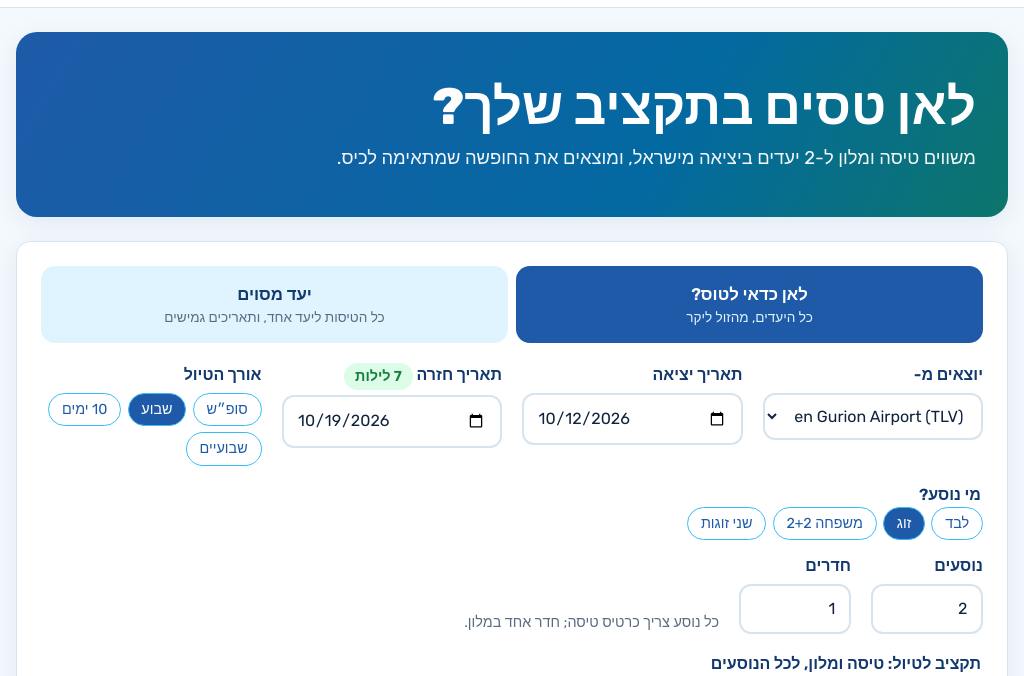
Scenario: nearest dates and old prices are tagged
This screenshot has width=1024, height=676.
Type "2026-11-07" into the date field labelled "תאריך יציאה" at {"x": 632, "y": 419}, box [522,393,742,445]
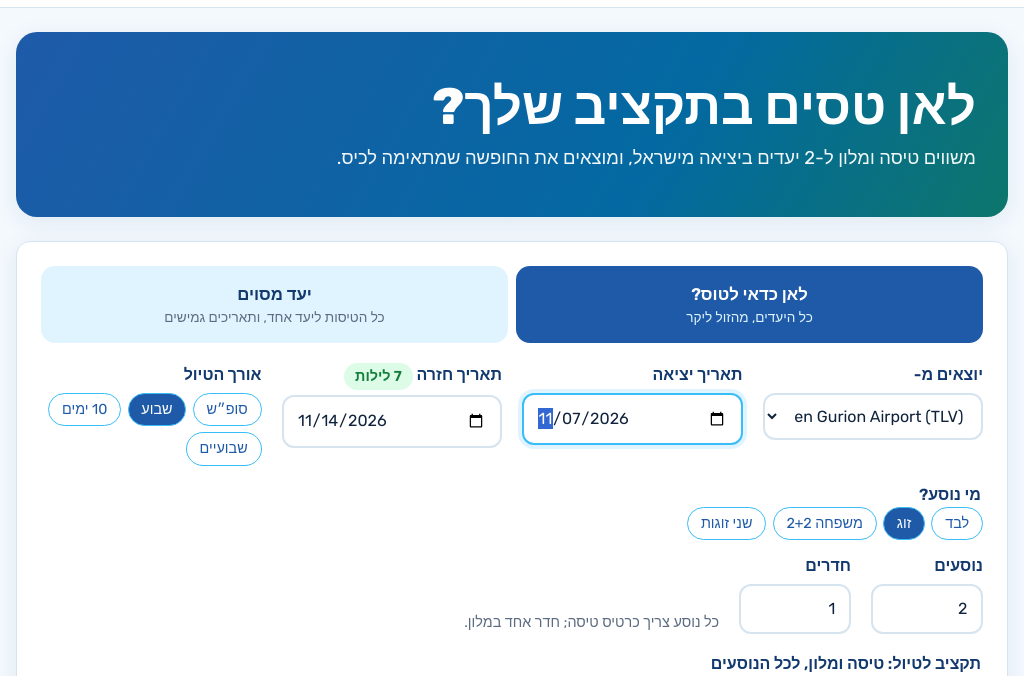
Clear the date field labelled "תאריך חזרה 7 לילות" at {"x": 392, "y": 421}, box [282,395,502,448]
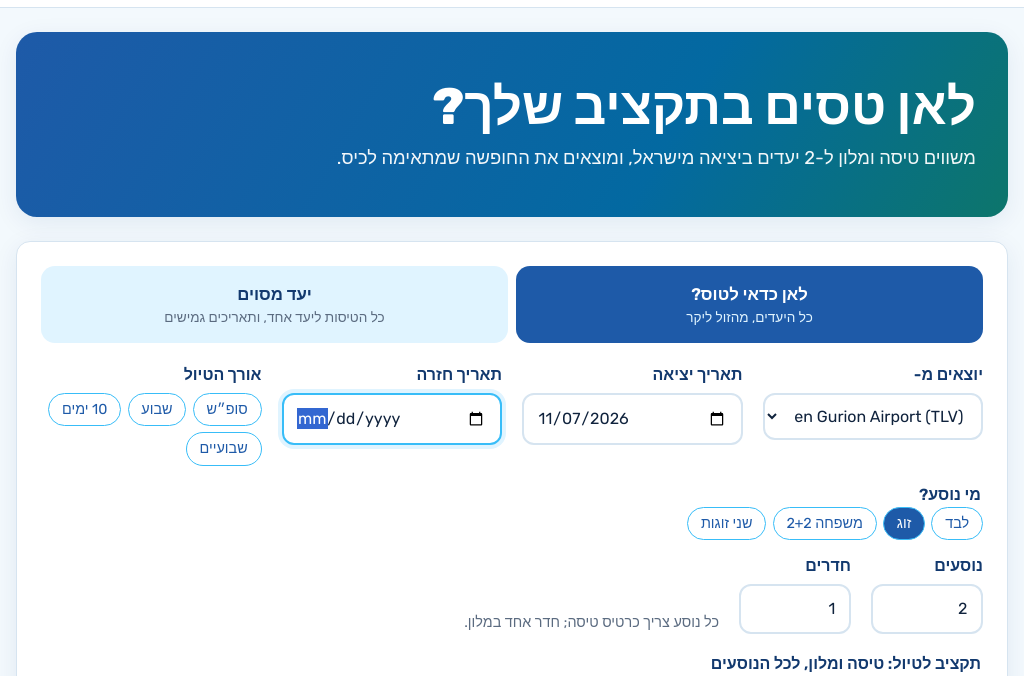
Type "2026-11-14" into the date field labelled "תאריך חזרה" at {"x": 392, "y": 419}, box [282,393,502,445]
(page scrolled)
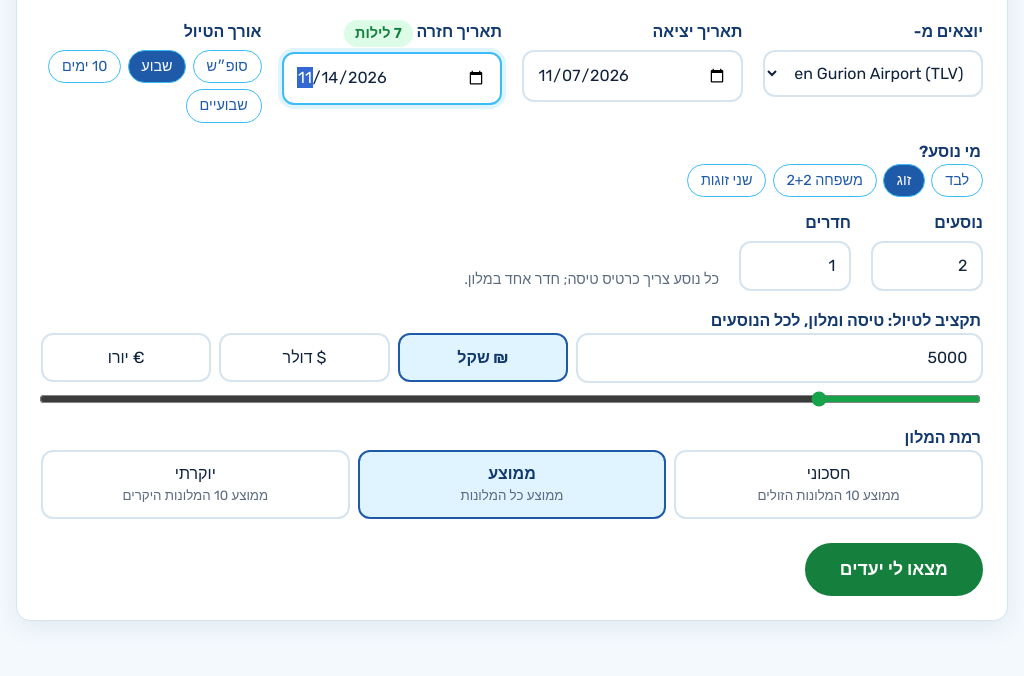
Replace the text in the number field named "תקציב" with "8000" at {"x": 780, "y": 358}, box [576,332,983,383]
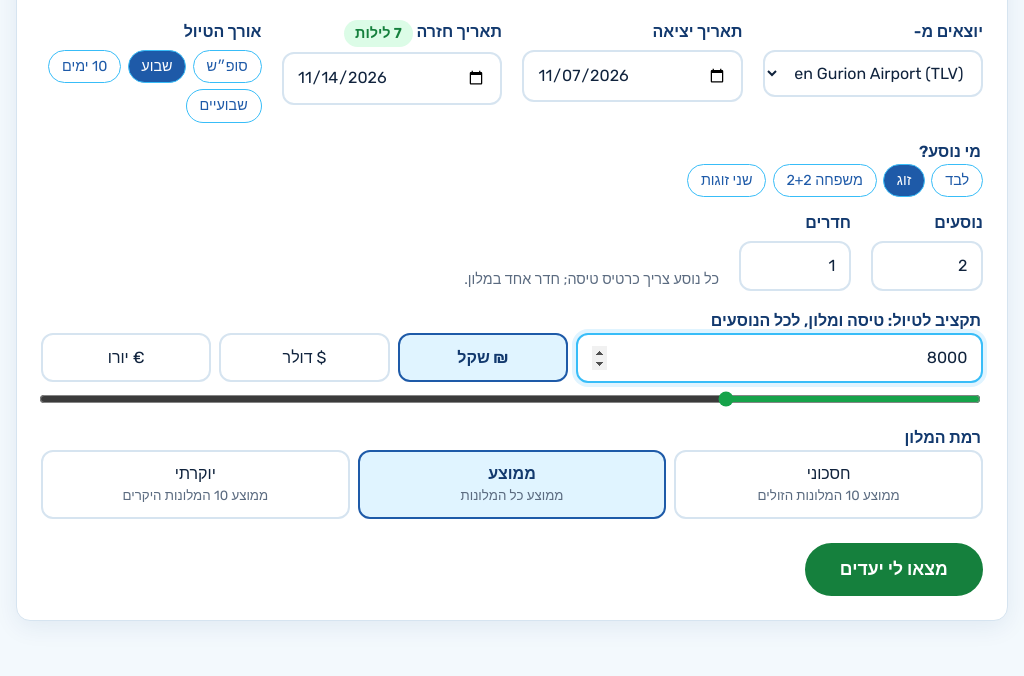
Click the button "מצאו לי יעדים" at {"x": 894, "y": 570}, box [805,543,983,596]
(page scrolled)
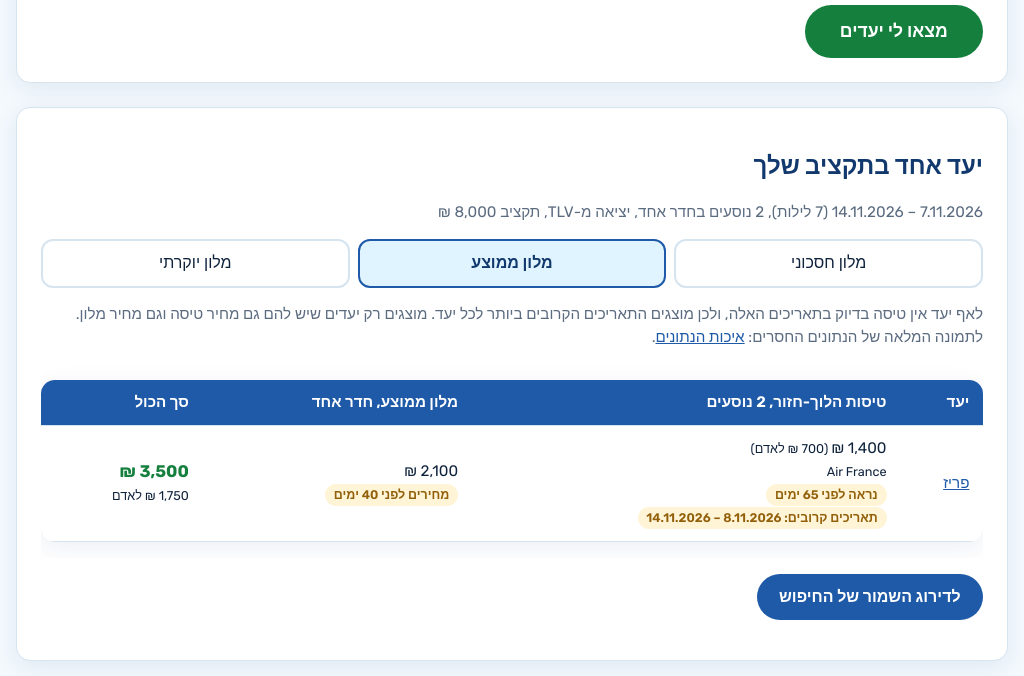
Expected: the text "תאריכים קרובים: 8.11.2026 – 14.11.2026" is shown, [638,508,886,529]
Expected: the text "מוצגים התאריכים הקרובים ביותר לכל יעד" is shown, [431,305,983,323]
